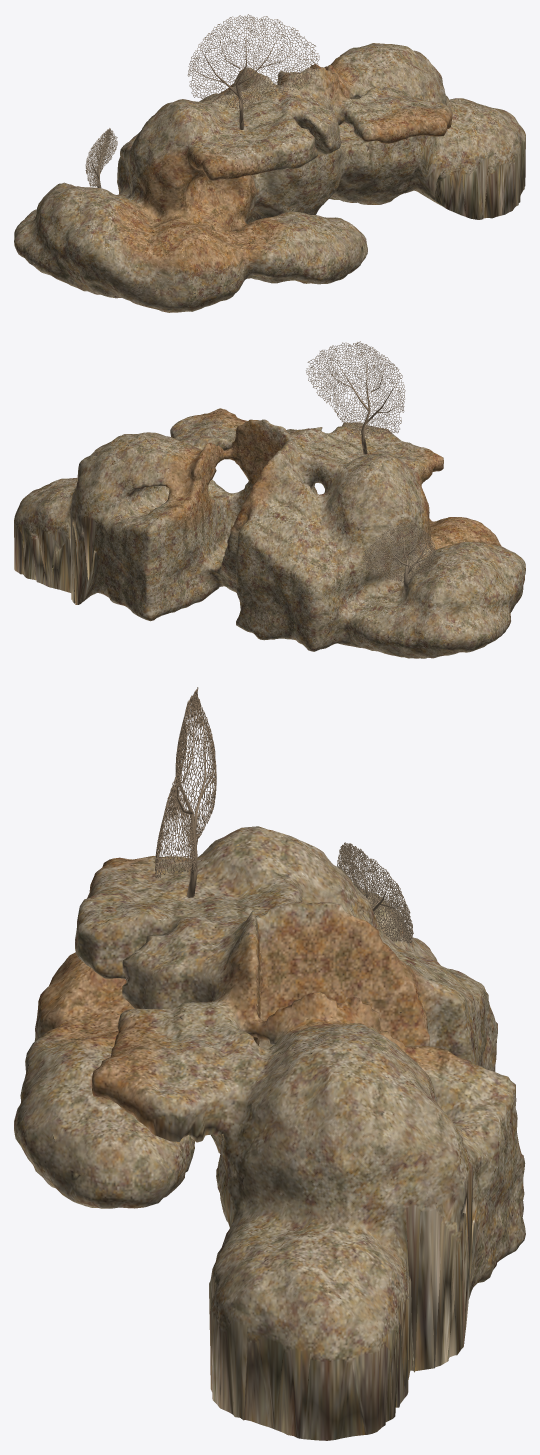
The model's file is pilot.glb.
The picture shows the model from 3 angles, top to bottom: view 1: azimuth 30°, elevation 25°; view 2: azimuth 150°, elevation 25°; view 3: azimuth 270°, elevation 25°; orthographic projection. The views are drawn at different scales.
Visible parts, largest first — view 1: Shoulder_closed_irregular_skeleton, Attached_reticulate_fan_form, Attached_small_fan_form; view 2: Shoulder_closed_irregular_skeleton, Attached_reticulate_fan_form, Attached_small_fan_form; view 3: Shoulder_closed_irregular_skeleton, Attached_reticulate_fan_form, Attached_small_fan_form.
Part boxes in pixels (box(x1,y1,x2,y2)): Shoulder_closed_irregular_skeleton: box(14, 43, 525, 312); Attached_reticulate_fan_form: box(187, 14, 319, 129); Attached_small_fan_form: box(85, 128, 117, 187); Shoulder_closed_irregular_skeleton: box(14, 408, 525, 658); Attached_reticulate_fan_form: box(306, 341, 405, 454); Attached_small_fan_form: box(362, 522, 435, 593); Shoulder_closed_irregular_skeleton: box(14, 826, 525, 1440); Attached_reticulate_fan_form: box(155, 687, 216, 897); Attached_small_fan_form: box(337, 842, 413, 943).
Bounding box in the file's own units: 6.01 × 3.12 × 3.06.
Materials: 2 (1 with a texture image).
